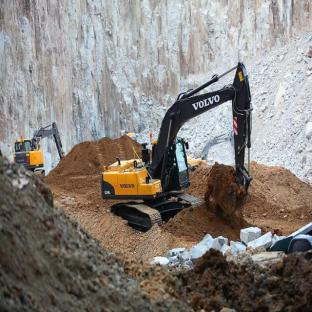ExcavationMachinery: (93, 65, 263, 229), (5, 117, 72, 188)
